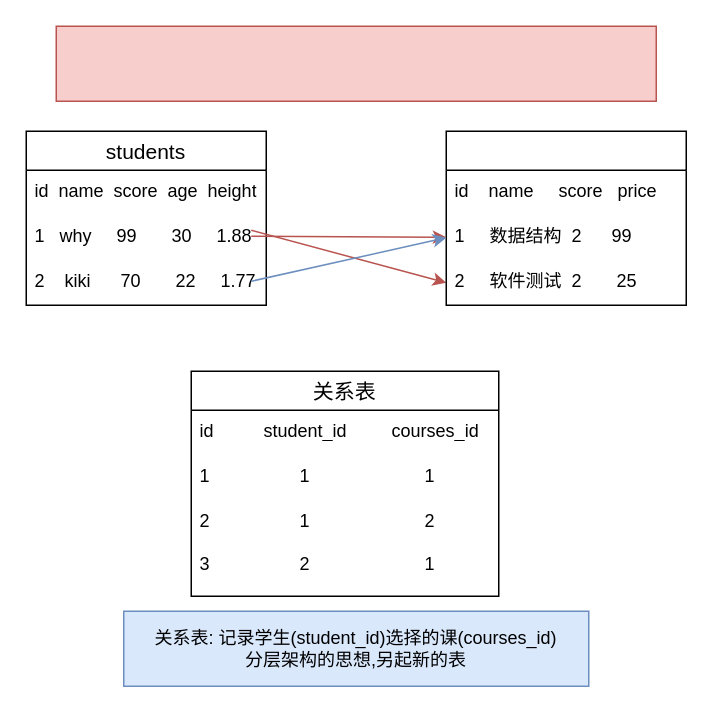
Some shapes in this 713 by 713 pixel diagram are drawn without their labels. Each missing label, with the box of its shape:
courses: (445, 130, 686, 305)
多对多: 一个学生可以选择多门课,而一门课也可以被多个学生选择: (55, 25, 656, 101)
